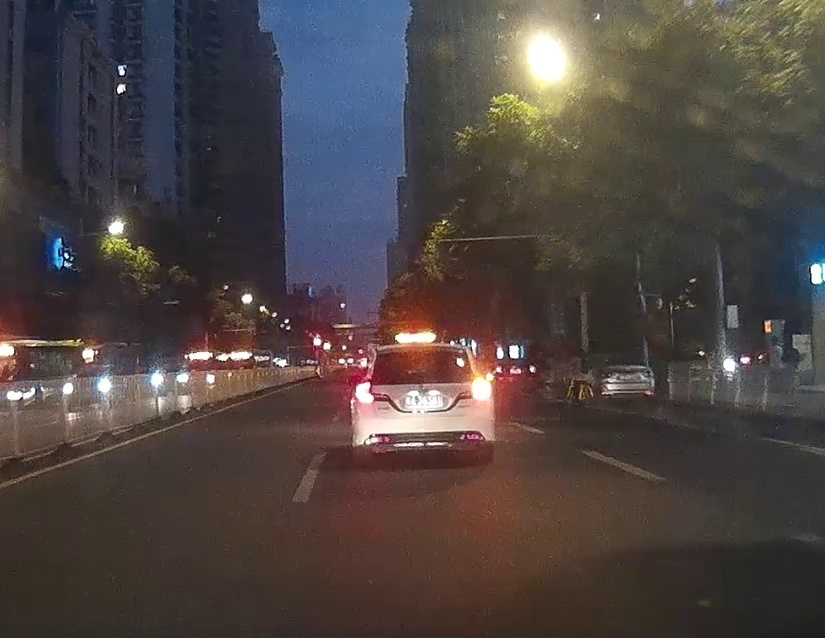L_light: (356, 381, 374, 404)
R_light: (472, 378, 491, 400)
T_light: (410, 352, 433, 357)
night-no: (351, 343, 493, 465)
